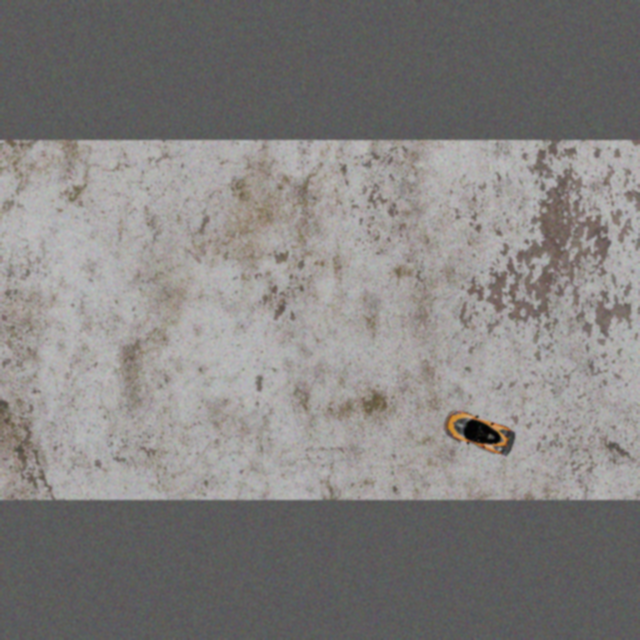car: (442, 406, 519, 460)
